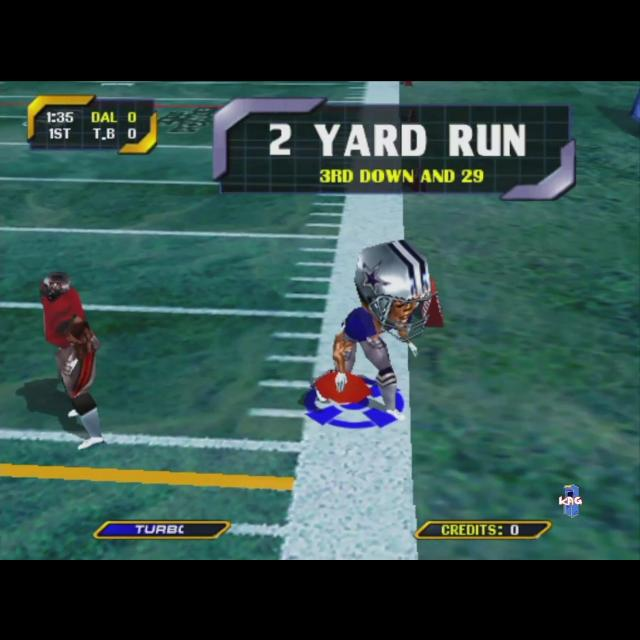player: (328, 238, 436, 420), (40, 272, 104, 448)
